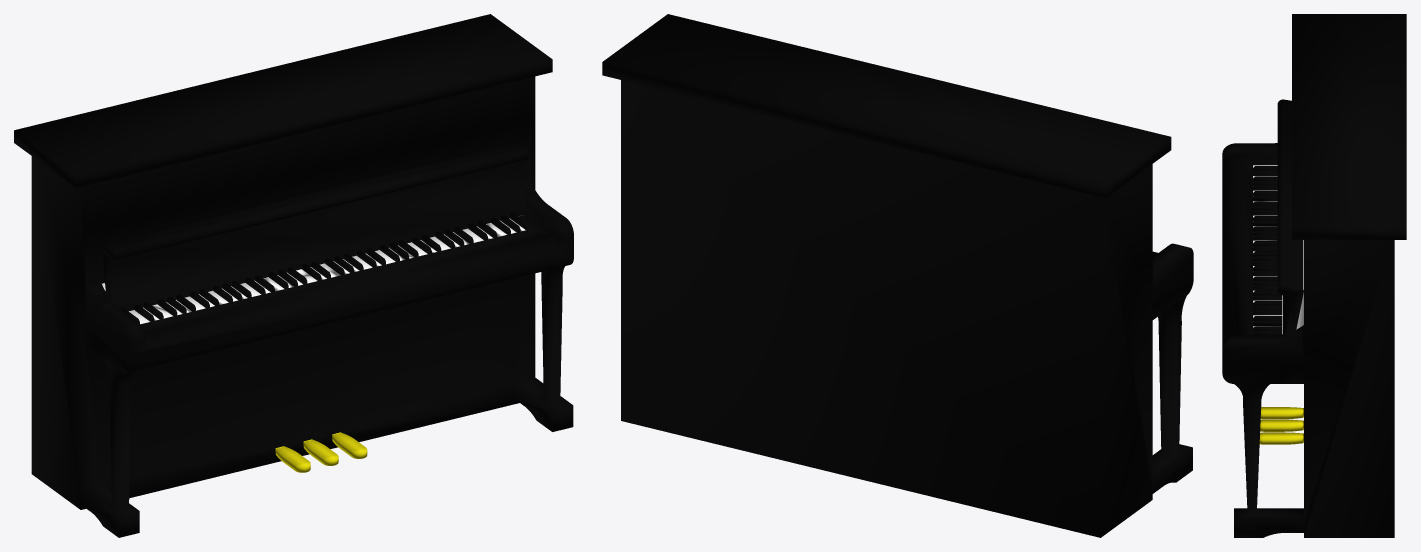
The model's file is 피아노.fbx.
3 views of the same model, side by side, from view 1: azimuth 30°, elevation 25°; view 2: azimuth 150°, elevation 25°; view 3: azimuth 270°, elevation 25° (orthographic). The views are drawn at different scales.
Visible parts, largest first — view 1: upright_piano_HO; view 2: upright_piano_HO; view 3: upright_piano_HO.
Part boxes in pixels (bbox=[...]): upright_piano_HO: bbox=[14, 14, 573, 537]; upright_piano_HO: bbox=[602, 14, 1193, 537]; upright_piano_HO: bbox=[1222, 14, 1406, 537].
Size of the model in its own units: 2189 by 1500 by 795.
